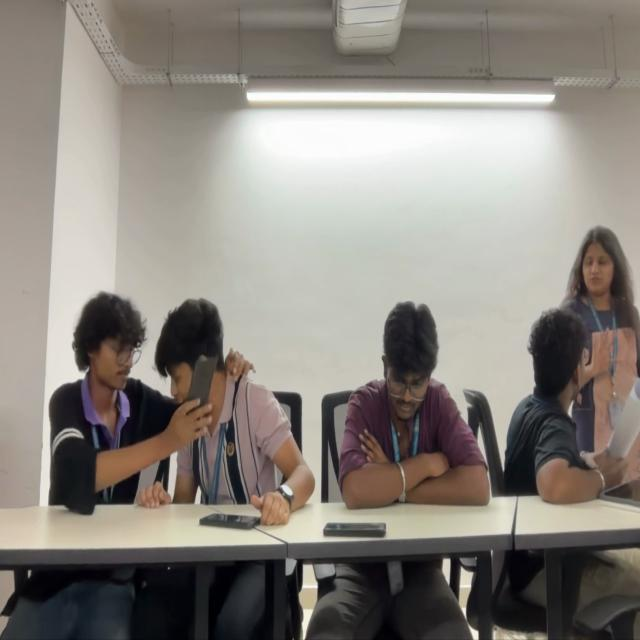Isolated: (342, 303, 491, 506)
socializing: (49, 293, 314, 518), (503, 222, 640, 496)
